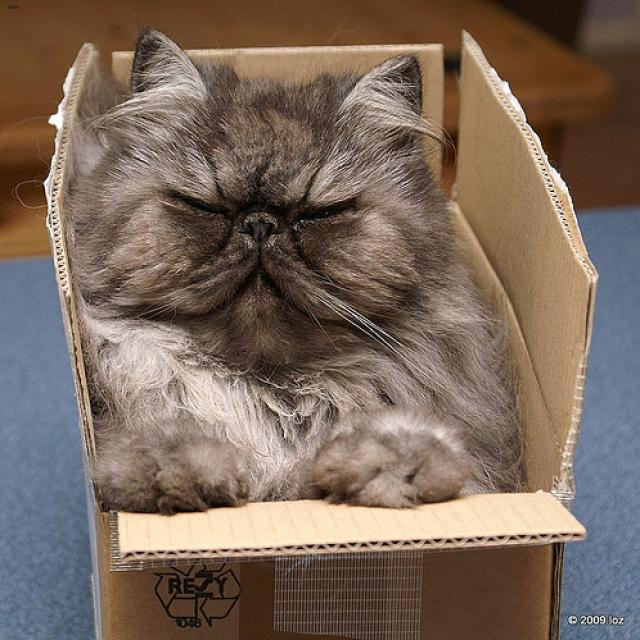Persian: (55, 22, 438, 366)
